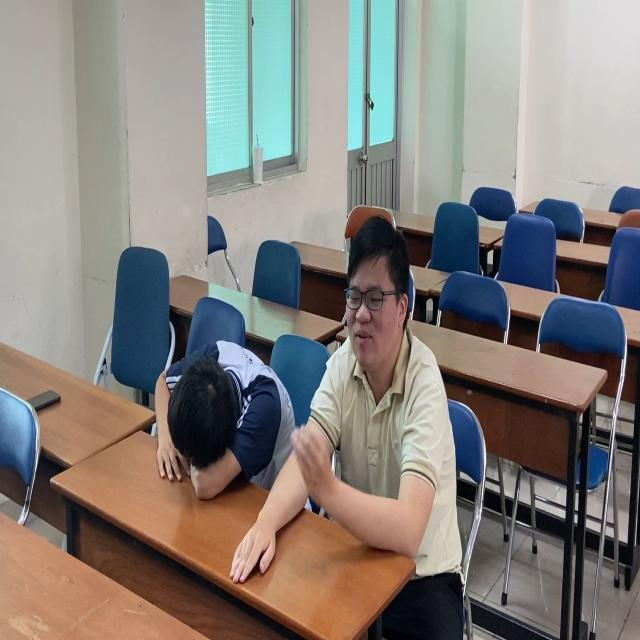sleep: (156, 329, 293, 495)
